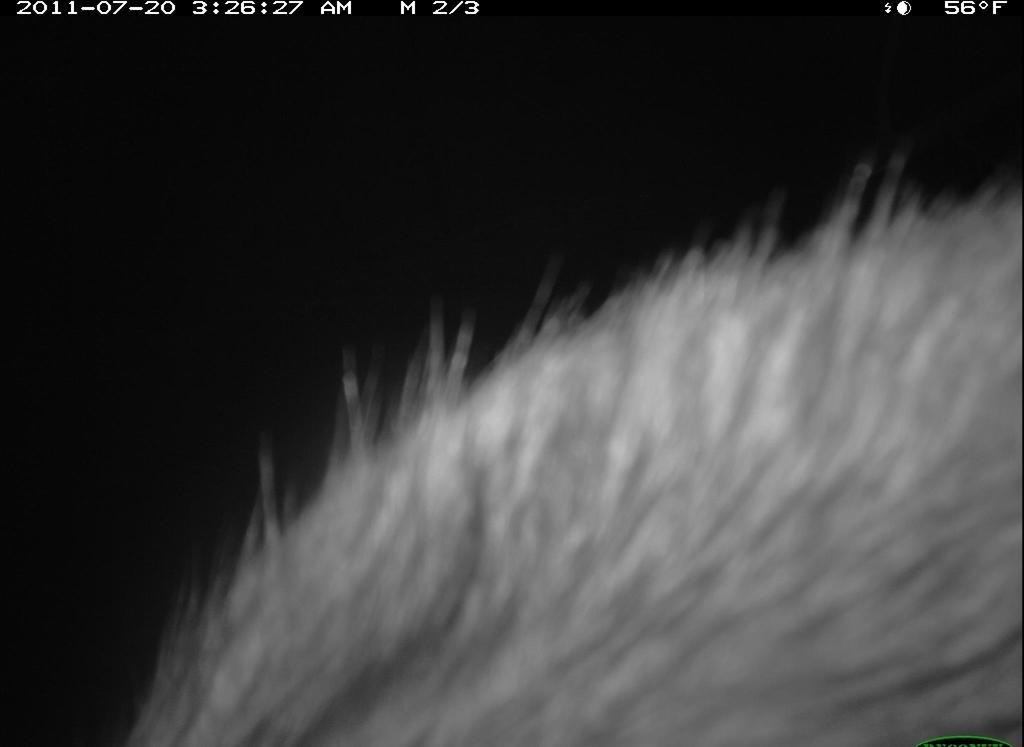raccoon: (136, 163, 1023, 740)
